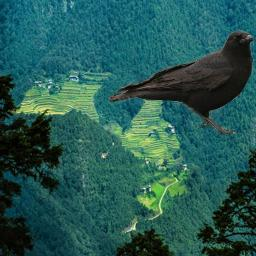Crow: (108, 30, 254, 135)
